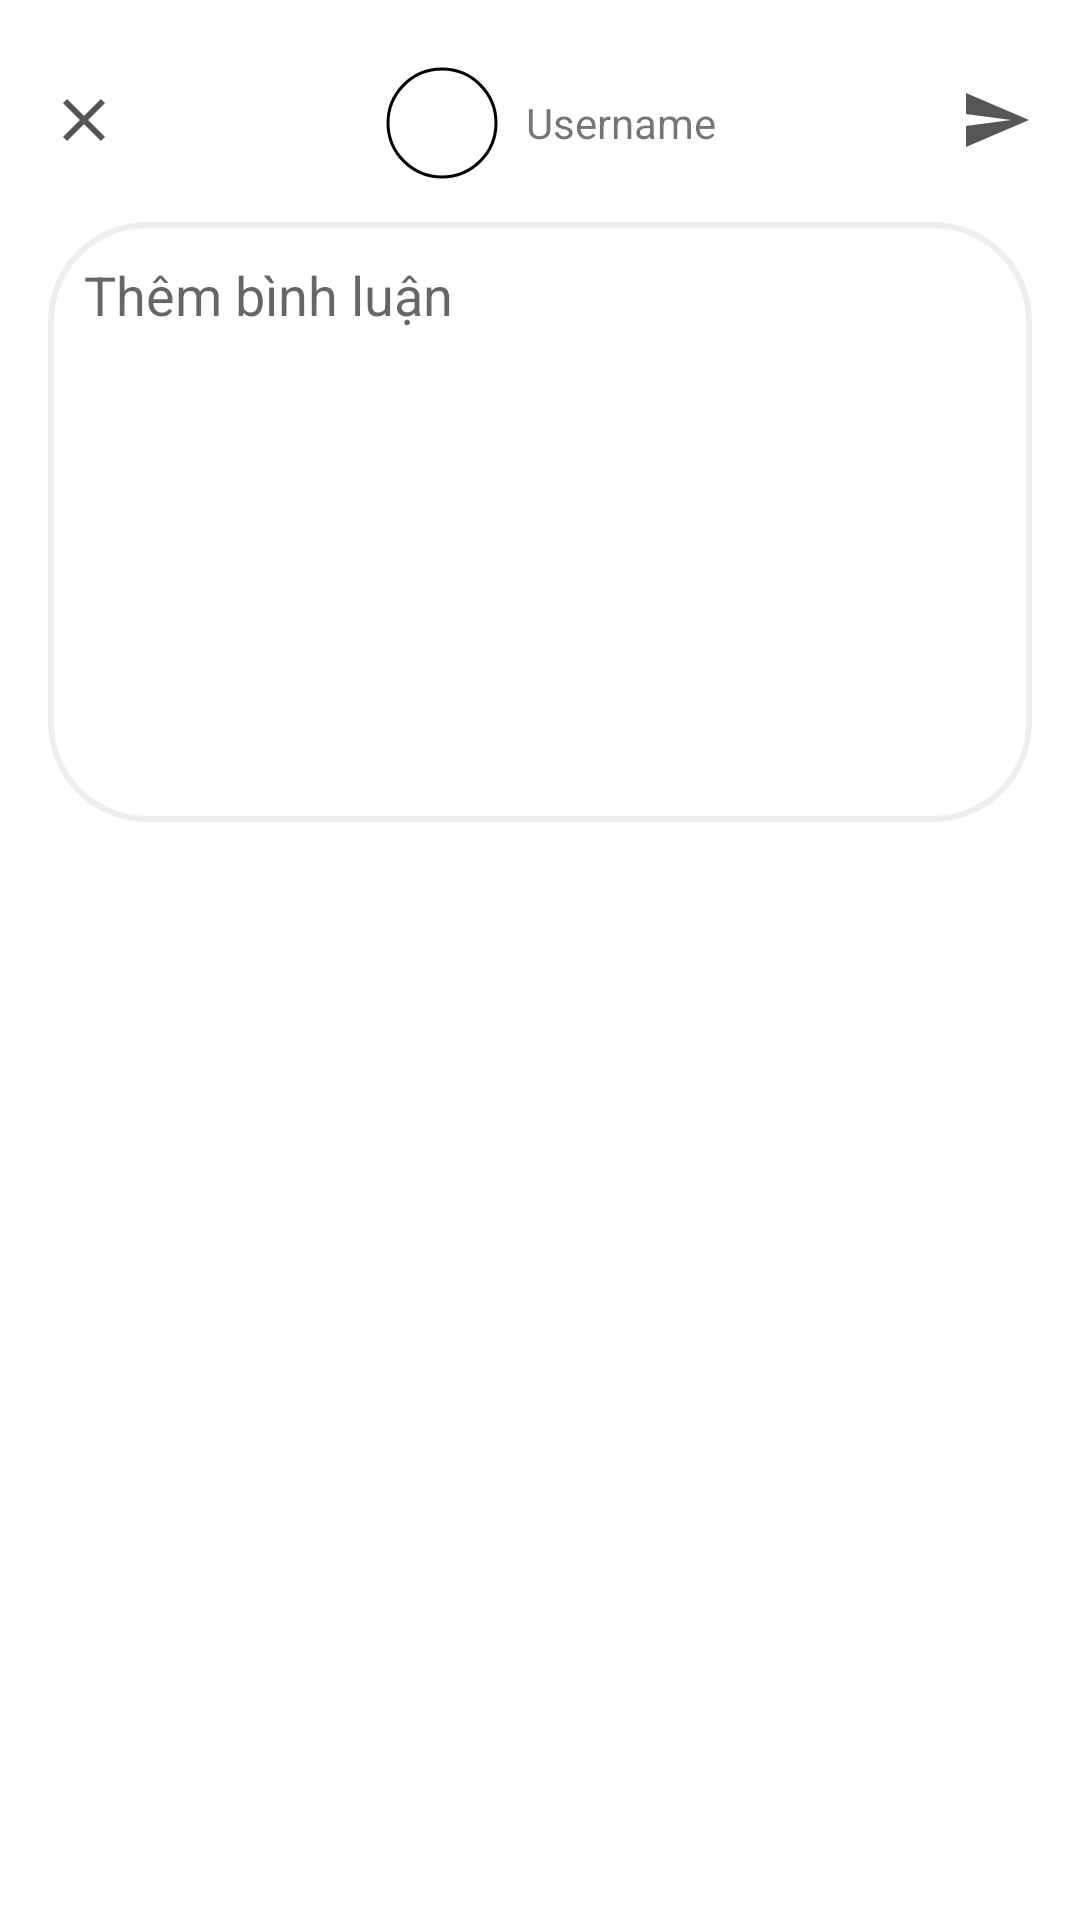

Where to tap for icons on this 1080*1920 app screen, as point (x, y):
close: point (84, 120)
send: point (997, 120)
